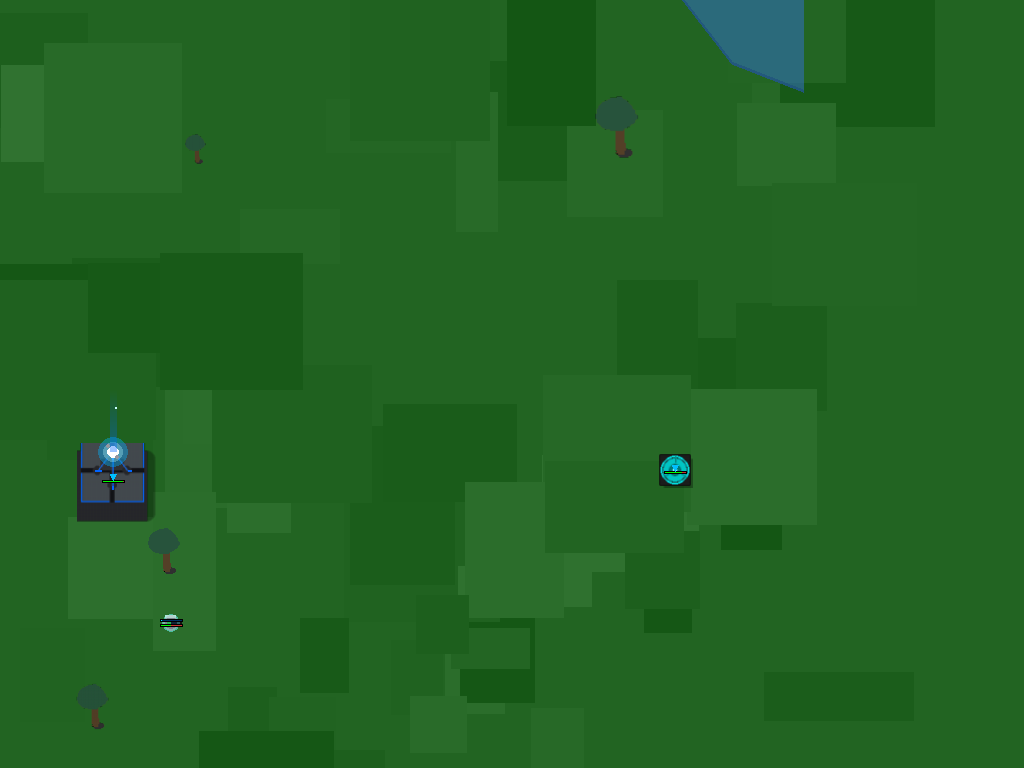Lake: (622, 0, 804, 130)
LaserTurret: (649, 444, 699, 494)
ResearchCenter: (72, 438, 154, 520)
Shotgunner: (156, 607, 186, 637)
